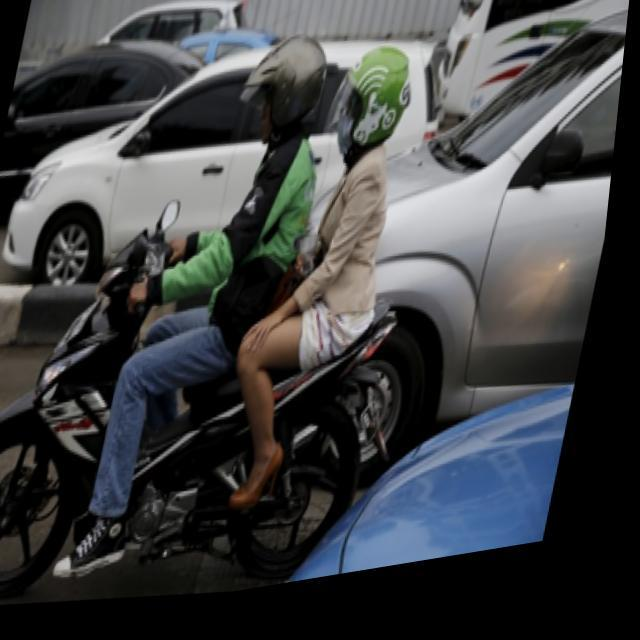Helmet: (323, 39, 419, 163), (228, 24, 326, 140)
